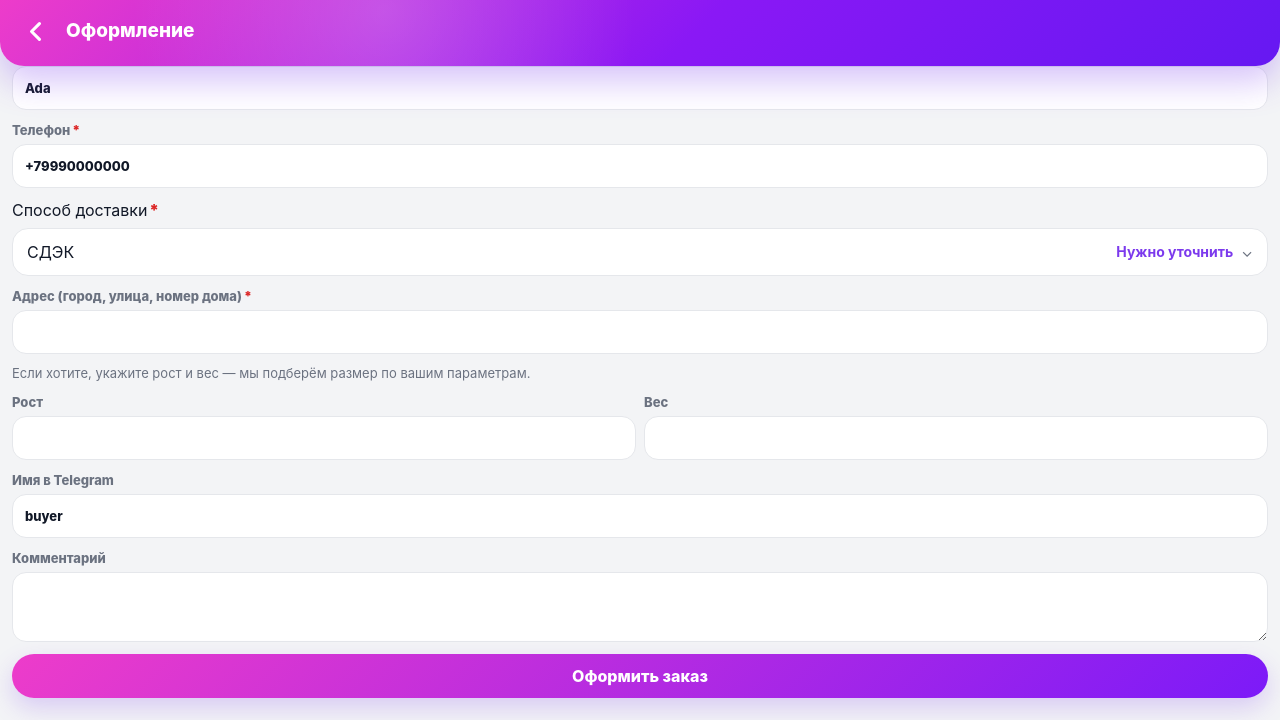
Scenario: CheckoutPage item details › rejects malformed and out-of-range non-empty measurements
This screenshot has width=1280, height=720.
(page scrolled)
Type "Хасавюрт" into the field labelled "Адрес (город, улица, номер дома)".
click(640, 332); type("Хасавюрт")  # box [12,310,1268,354]
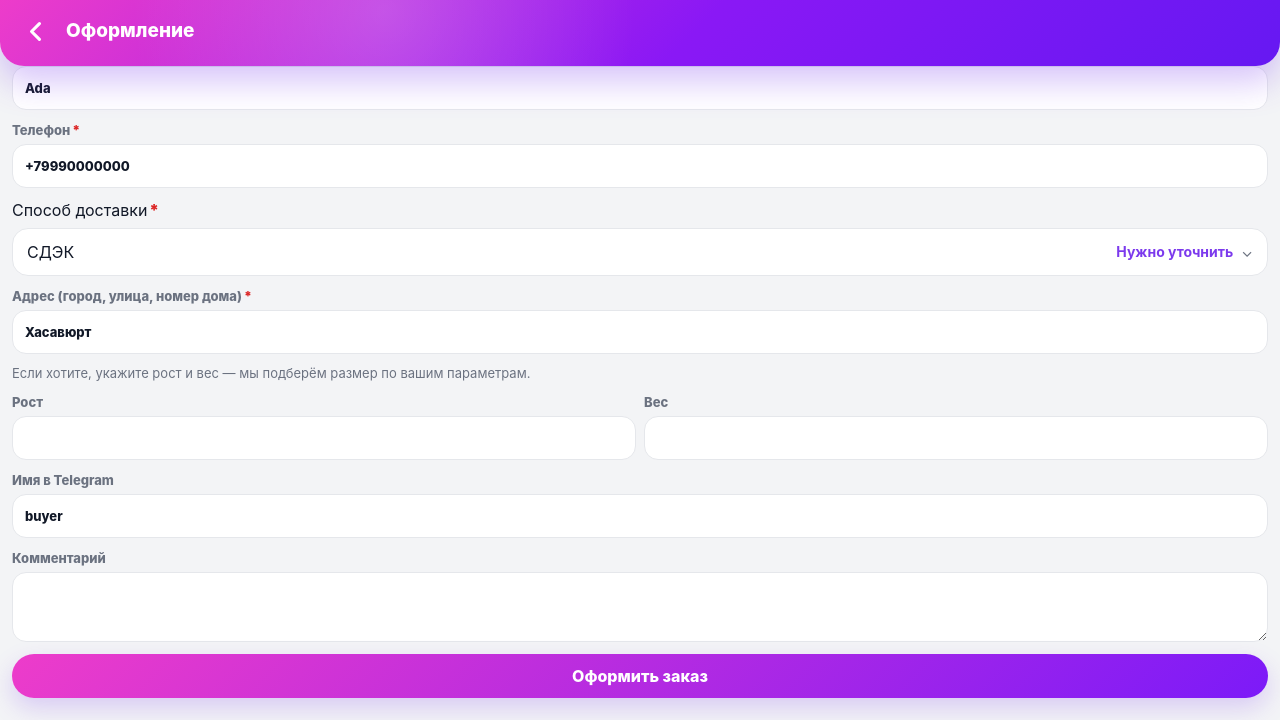
Type "301" into the field labelled "Рост".
click(324, 438); type("301")  # box [12,416,636,460]
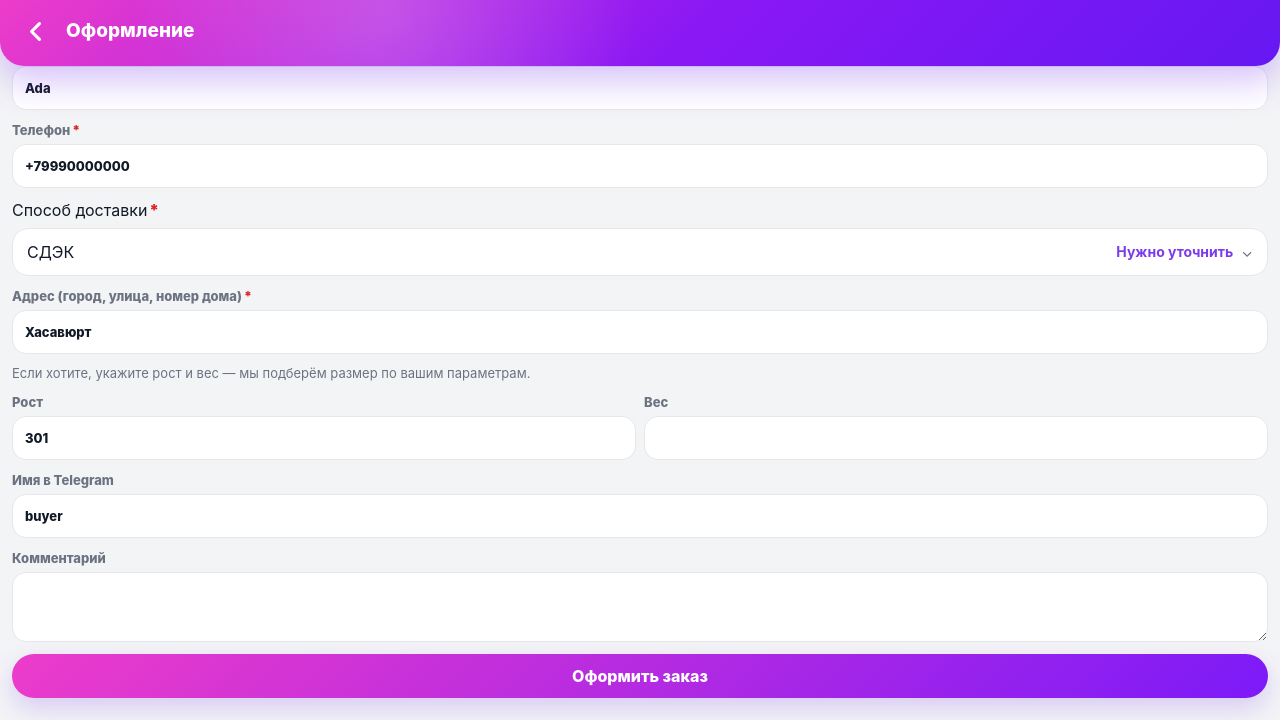
Type "abc" into the field labelled "Вес".
click(956, 438); type("abc")  # box [644,416,1268,460]
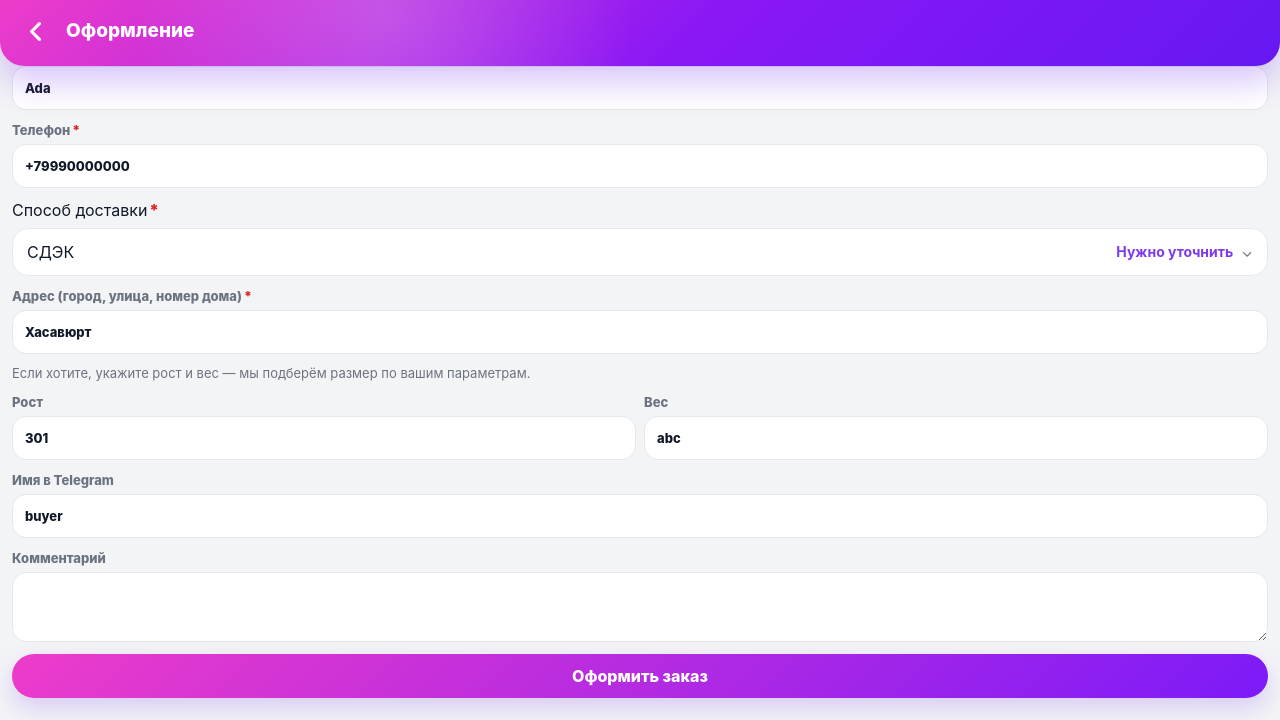
Click the button "Оформить заказ".
click(640, 676)  # box [12,654,1268,698]
(page scrolled)
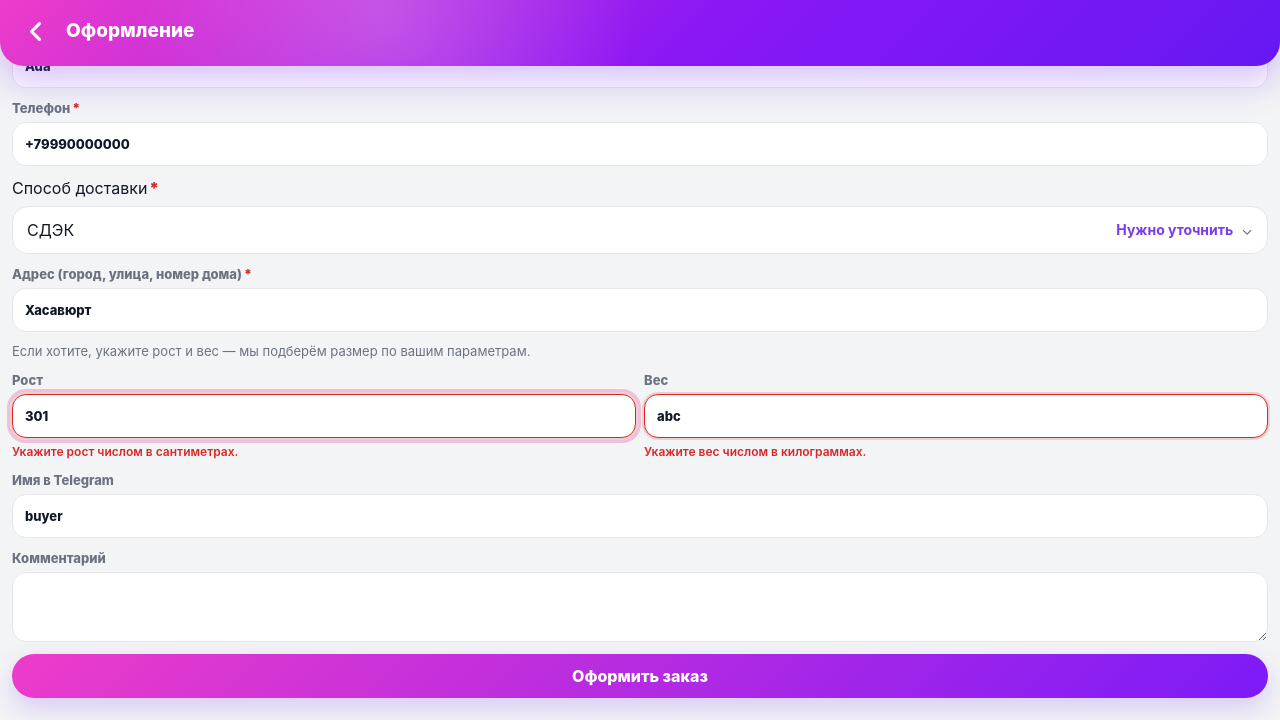
Now the text "Укажите рост числом в сантиметрах." is shown, box [12,444,238,459]
Now the text "Укажите вес числом в килограммах." is shown, box [644,444,866,459]
